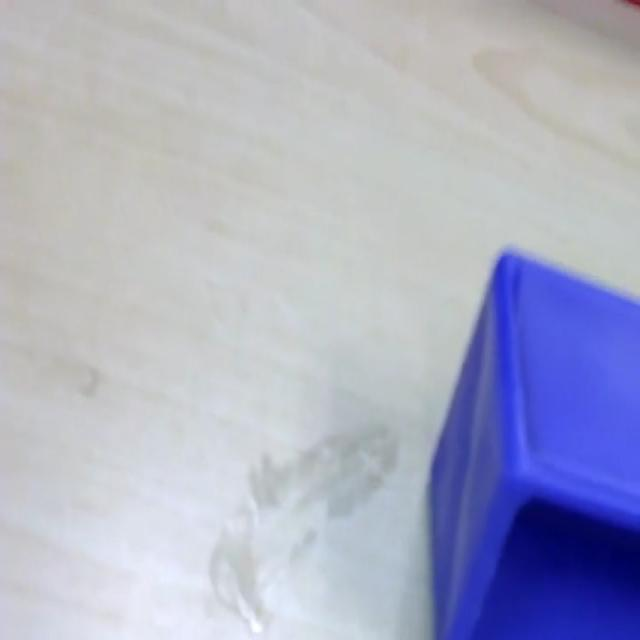blue_block: (426, 244, 639, 636)
